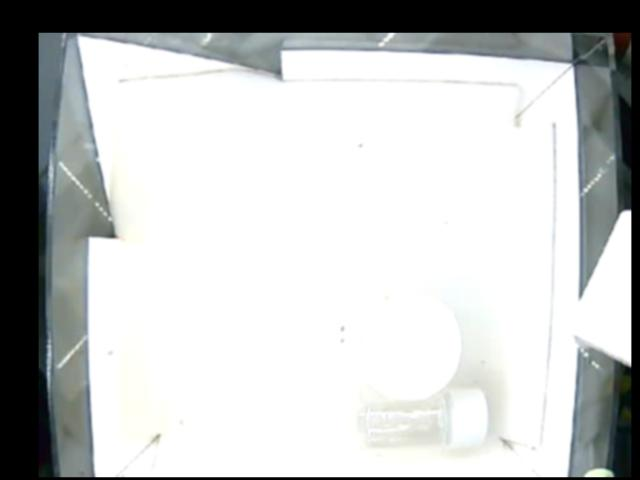Bottle: (360, 387, 490, 451)
Cup: (356, 293, 465, 399)
